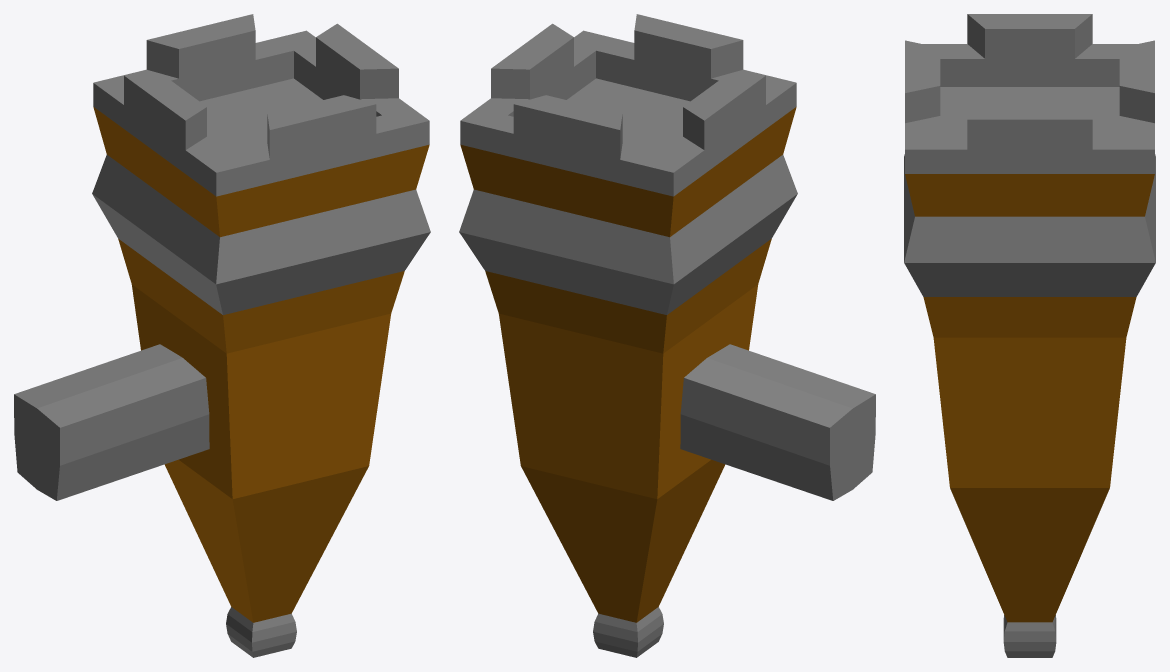
Rendered from torch.fbx.
3 views of the same model, side by side, from view 1: azimuth 30°, elevation 25°; view 2: azimuth 150°, elevation 25°; view 3: azimuth 270°, elevation 25° (orthographic).
Parts seen in each view (by area): view 1: torch; view 2: torch; view 3: torch.
Boxes of the visible parts, x1,y1,x2,y2 form: torch: (14,14,430,657); torch: (459,14,875,657); torch: (904,14,1155,657).
Size of the model in its own units: 0.8888 by 1.47 by 0.5755.
